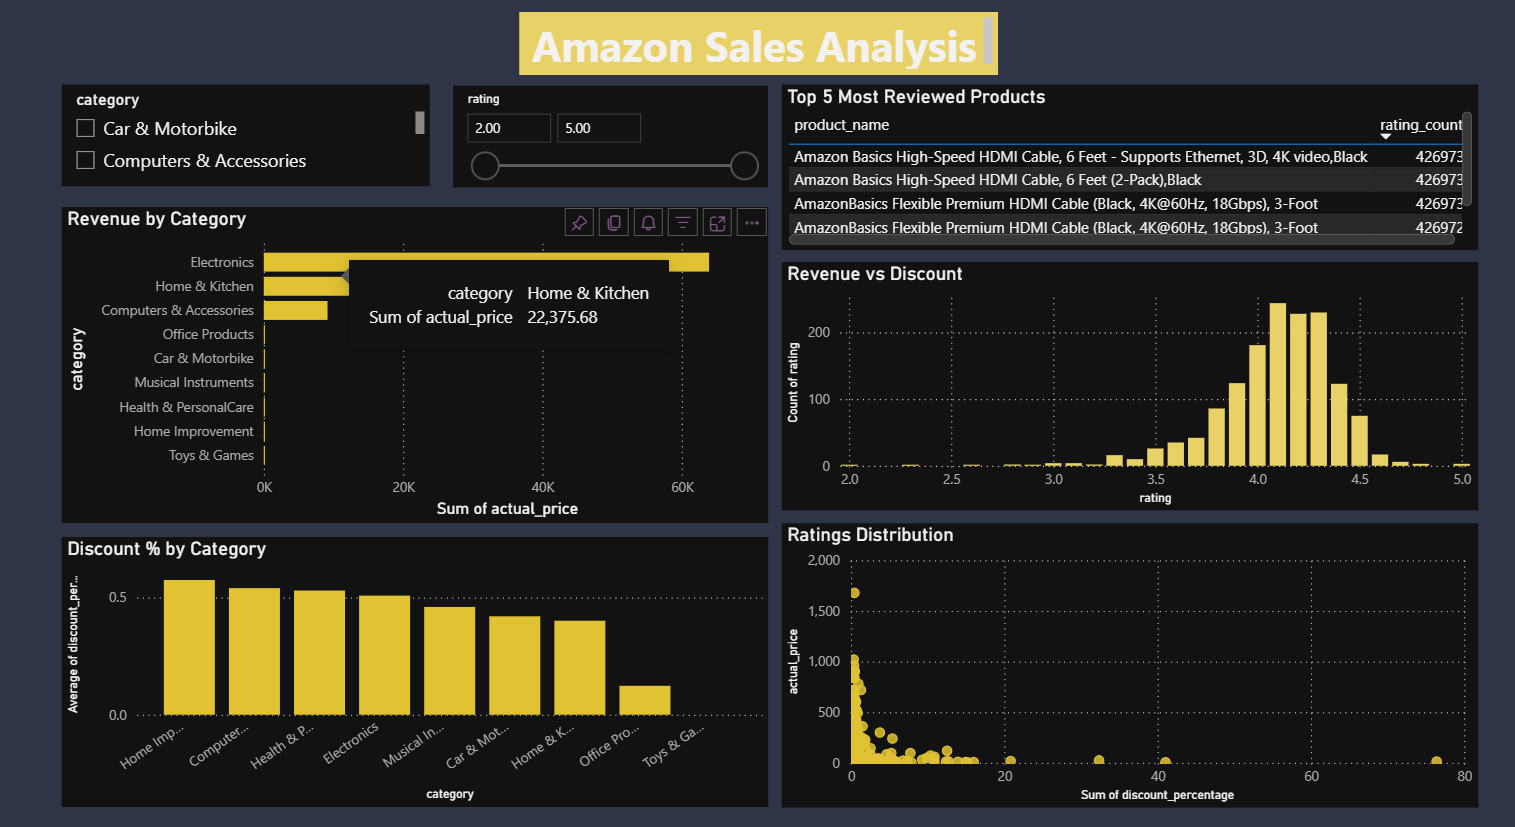

What the dashboard file says about the page in this screenshot:
{"tool":"powerbi","page":{"name":"Page 1","canvas":[1280,720],"ordinal":0},"visuals":[{"type":"clusteredBarChart","title":"Revenue by Category","fields":{"Category":["amazon_clean.category"],"Y":["Sum(amazon_clean.actual_price)"]},"box":[11.8,172.9,628.2,281.2],"z":0},{"type":"clusteredColumnChart","title":"Discount % by Category","fields":{"Category":["amazon_clean.category"],"Y":["Avg(amazon_clean.discount_percentage)"]},"box":[11.8,467.1,628.2,240],"z":1000},{"type":"tableEx","title":"Top 5 Most Reviewed Products","fields":{"Values":["amazon_clean.product_name","amazon_clean.rating_count"]},"box":[651.8,64.7,618.8,147.1],"z":2000},{"type":"lineClusteredColumnComboChart","title":"Revenue vs Discount","fields":{"Category":["amazon_clean.rating"],"Y":["CountNonNull(amazon_clean.rating)"]},"box":[651.8,222.4,618.8,221.2],"z":3000},{"type":"scatterChart","title":"Ratings Distribution","fields":{"Y":["amazon_clean.actual_price"],"X":["Sum(amazon_clean.discount_percentage)"]},"box":[651.8,454.1,618.8,252.9],"z":4000},{"type":"slicer","fields":{"Values":["amazon_clean.category"]},"box":[11.8,64.7,327.1,90.6],"z":5000},{"type":"slicer","fields":{"Values":["amazon_clean.rating"]},"box":[360,65,280,90],"z":6000},{"type":"textbox","box":[418.6,0,425.7,55.7],"z":7000}]}

Visuals, with their boxes on the page's 1280x720 design canvas (x1, y1, x2, y2). These are canvas units, not pixel positions in the 1515x827 screenshot, which may show the page scaled, cropped or inside an application window:
"Revenue by Category" clusteredBarChart: (12,173,640,454)
"Discount % by Category" clusteredColumnChart: (12,467,640,707)
"Top 5 Most Reviewed Products" tableEx: (652,65,1271,212)
"Revenue vs Discount" lineClusteredColumnComboChart: (652,222,1271,444)
"Ratings Distribution" scatterChart: (652,454,1271,707)
slicer - amazon_clean.category: (12,65,339,155)
slicer - amazon_clean.rating: (360,65,640,155)
textbox: (419,0,844,56)
